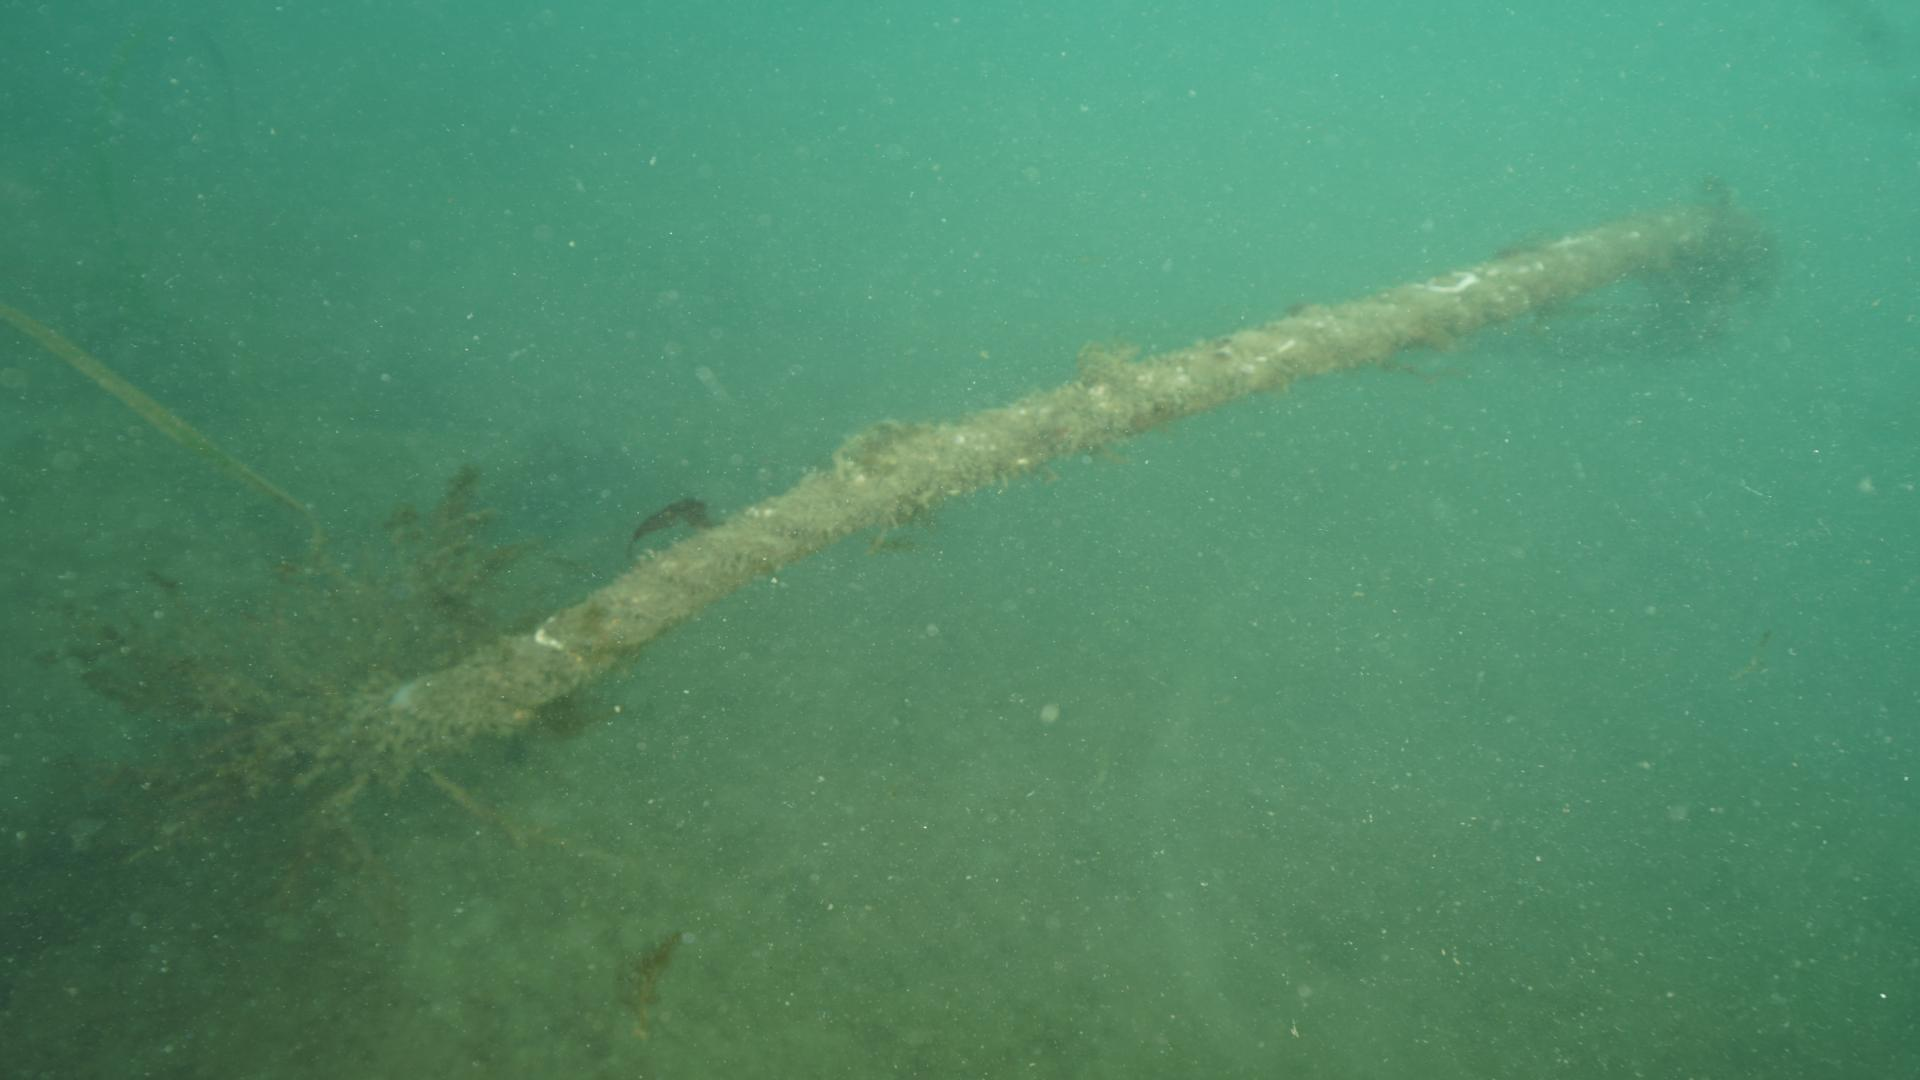rope: (404, 181, 1741, 738)
